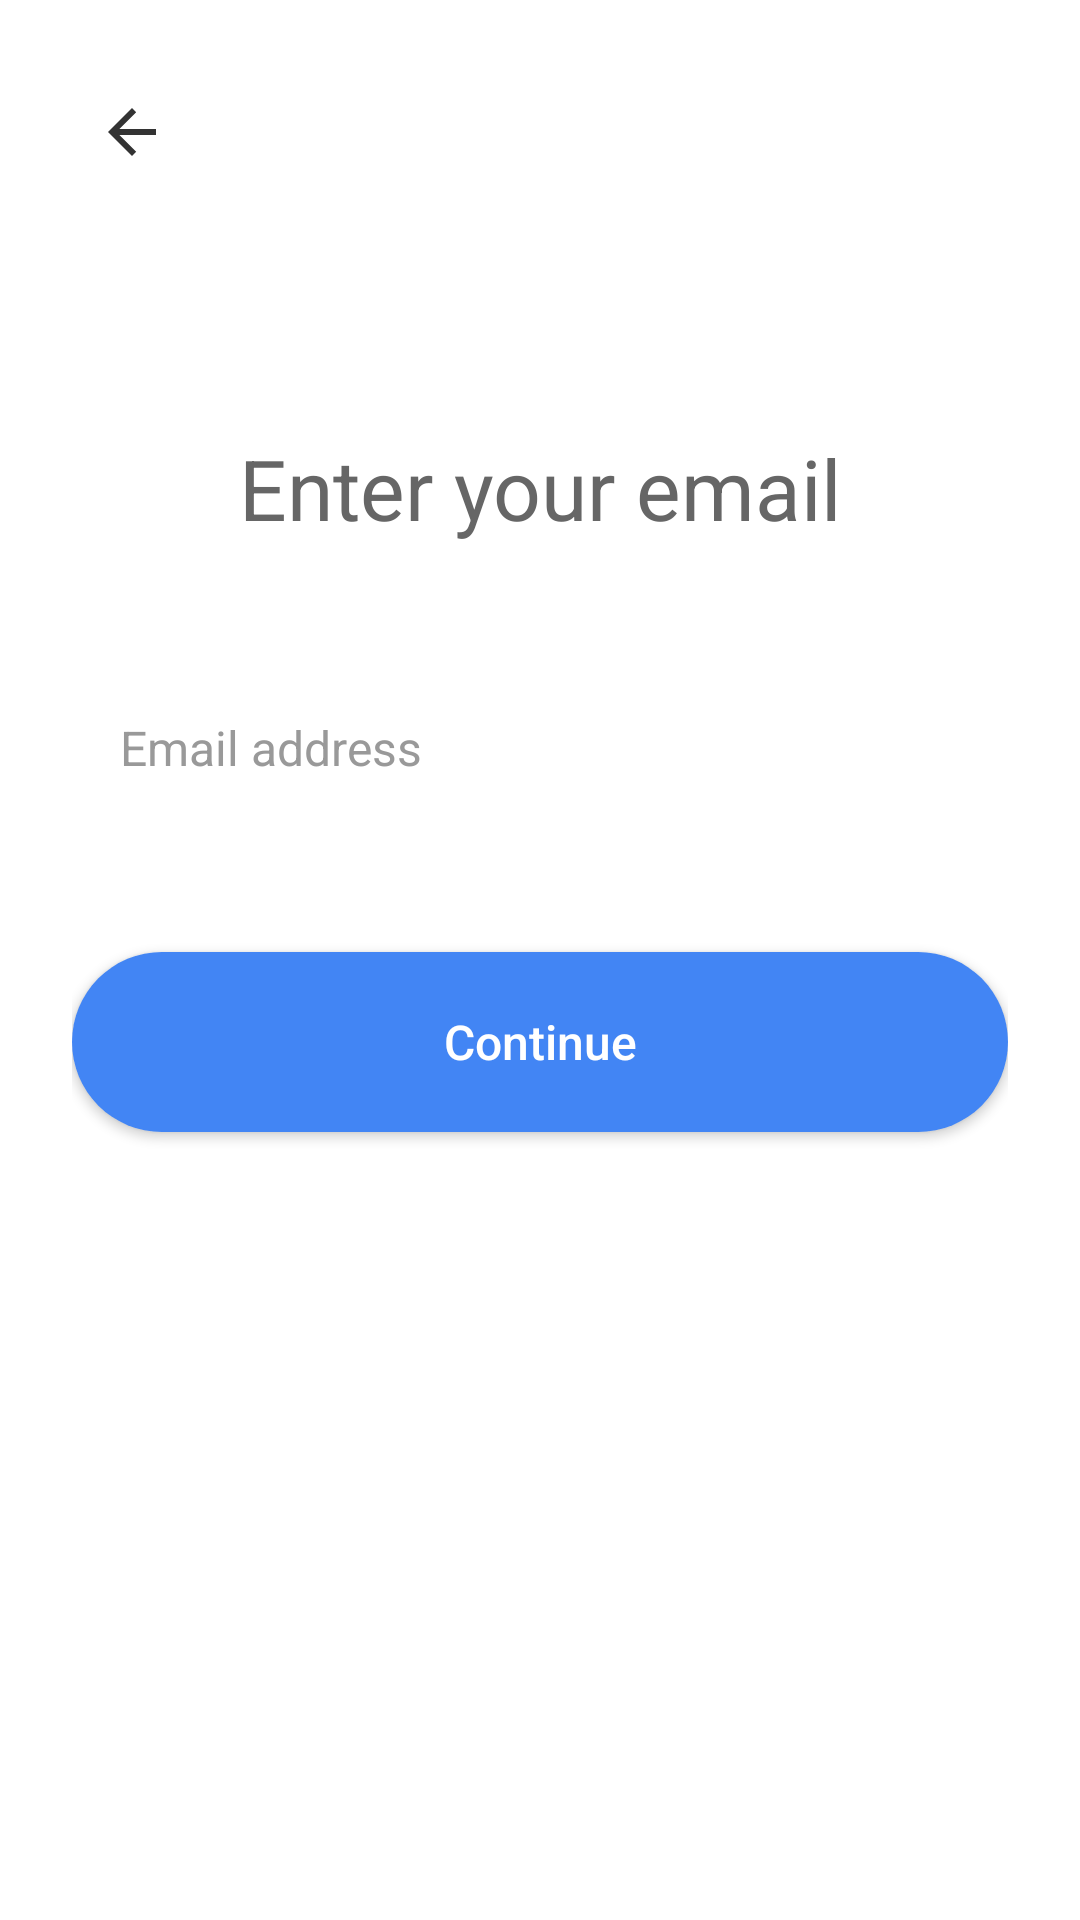

Named icons in this screenshot (1080 x 1920) and their centers, (x=x, y=y):
ab back: (x=132, y=132)
